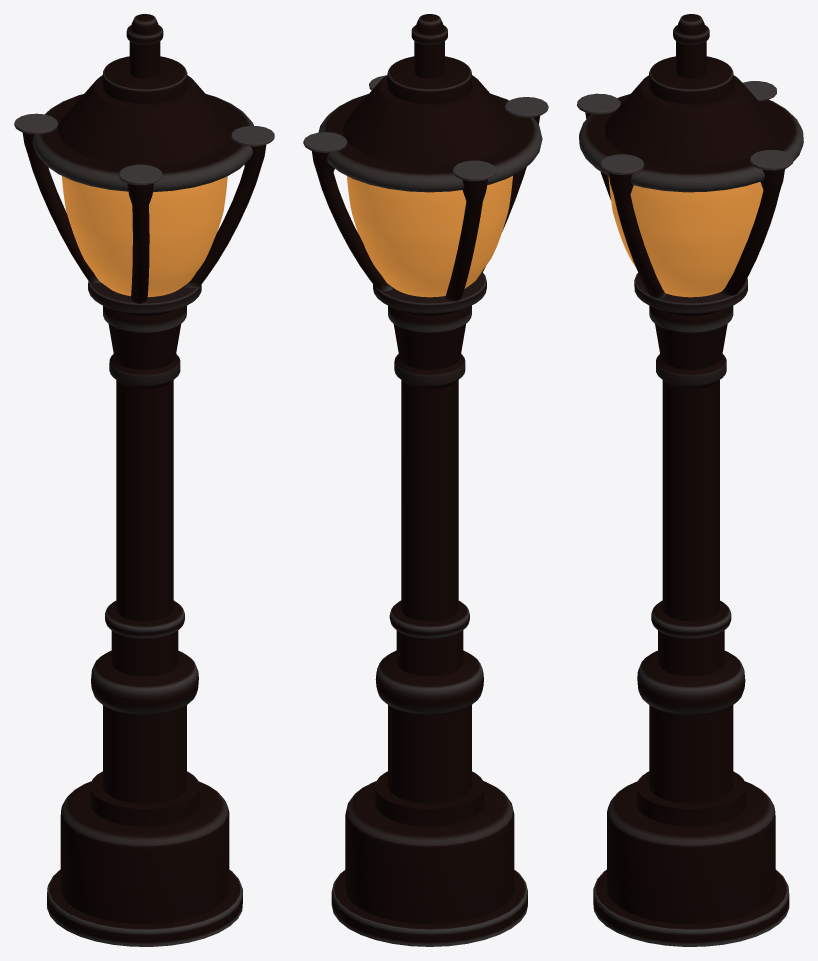
Rendered from m_light_01.glb.
3 views of the same model, side by side, from view 1: azimuth 30°, elevation 25°; view 2: azimuth 150°, elevation 25°; view 3: azimuth 270°, elevation 25° (orthographic).
Parts seen in each view (by area): view 1: Street Light; view 2: Street Light; view 3: Street Light.
Boxes of the visible parts, x1=… form: Street Light: x1=14, y1=14, x2=274, y2=946; Street Light: x1=303, y1=14, x2=548, y2=946; Street Light: x1=577, y1=14, x2=803, y2=946.
Bounding box in the file's own units: 0.7407 × 3.23 × 0.7464.
Materials: 2 (2 with a texture image).
